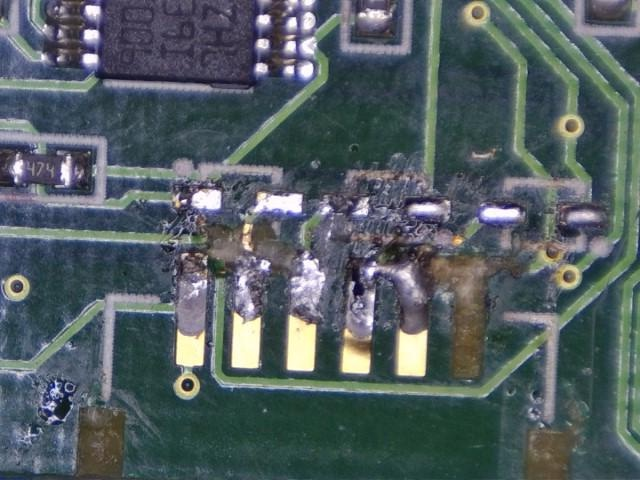pcb_defect: (426, 253, 529, 378), (342, 258, 433, 376), (76, 407, 127, 480), (523, 429, 575, 480), (253, 223, 296, 275), (201, 222, 243, 261)
